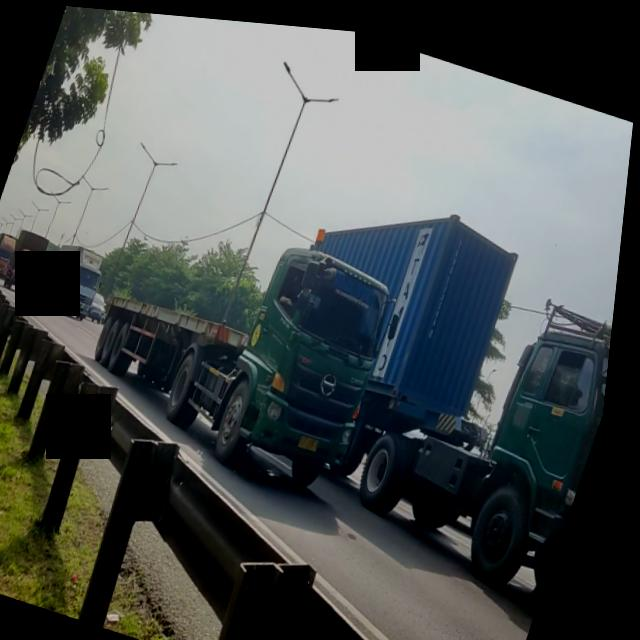Golongan V: (73, 172, 423, 501)
